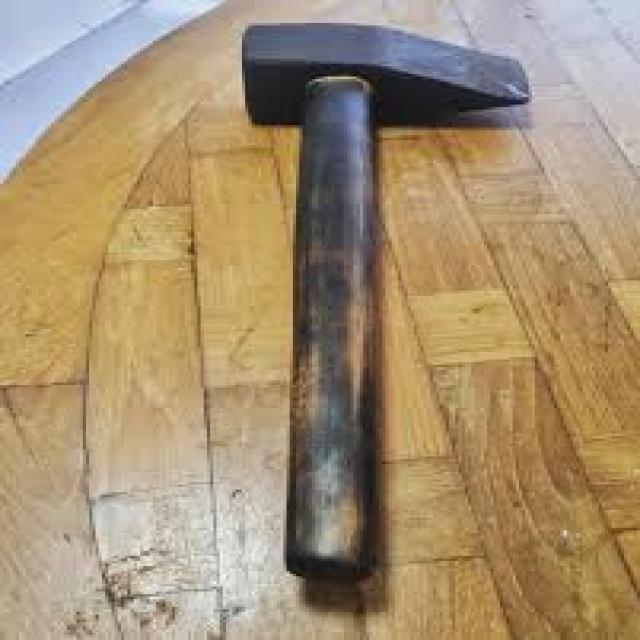hammer: (227, 16, 534, 586)
